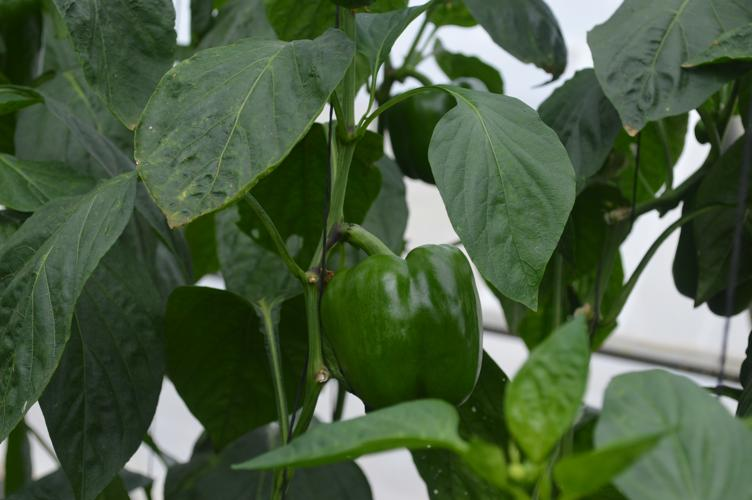BellPepper: (310, 246, 484, 410), (383, 80, 463, 187)
